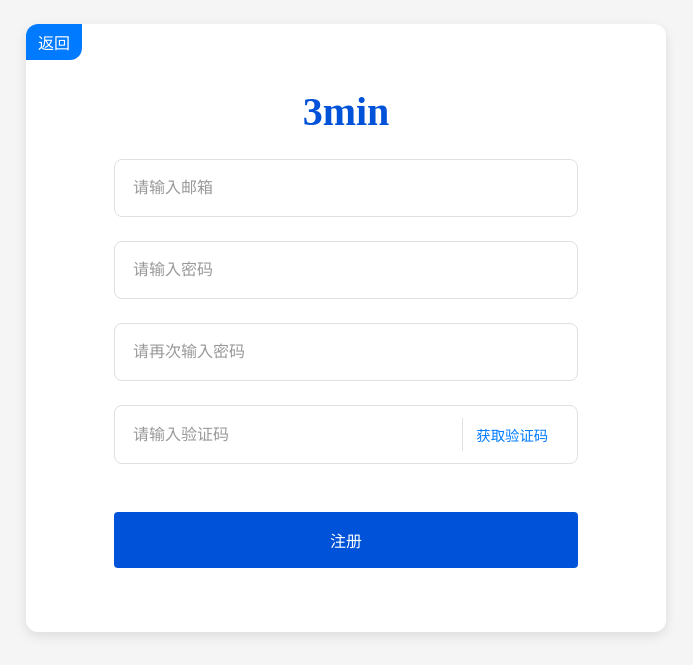
Test: Register Page › 删除密码内容时应显示错误提示
The image size is (693, 665).
Type "123456" into the password field with placeholder "请输入密码" at x=346, y=270, box [131, 260, 561, 280]
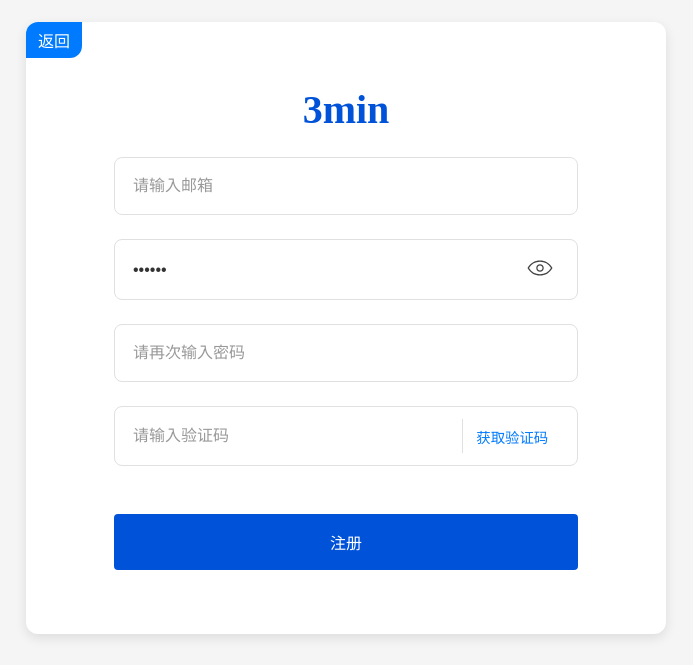
Expected: the text "请确认密码" is not shown
Clear the password field with placeholder "请输入密码" at x=325, y=270, box [131, 260, 519, 280]
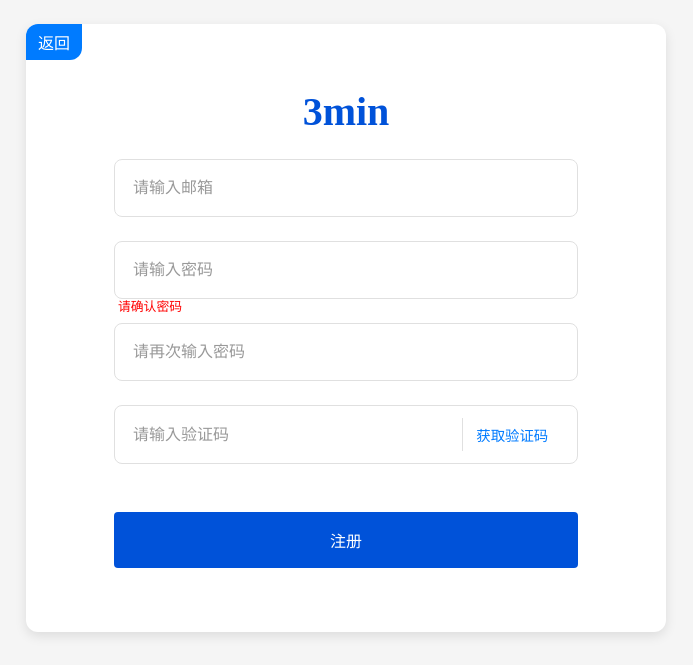
Result: the text "请确认密码" is shown at [118, 300, 182, 314]
